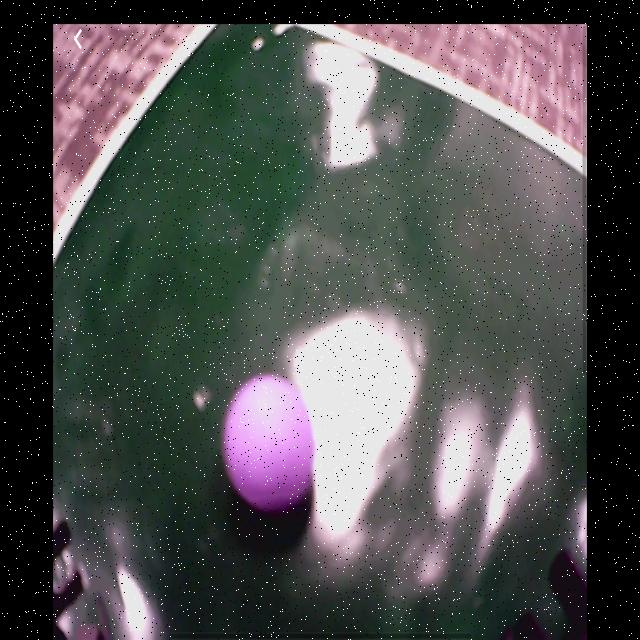ball: (224, 376, 315, 513)
